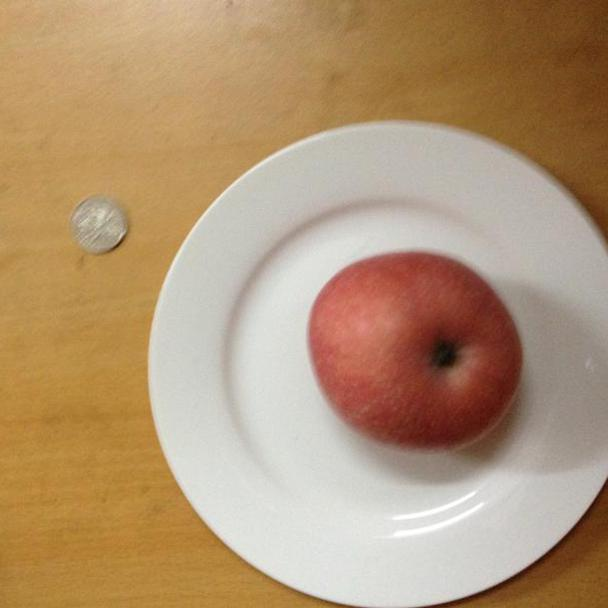apple: (304, 246, 527, 458)
